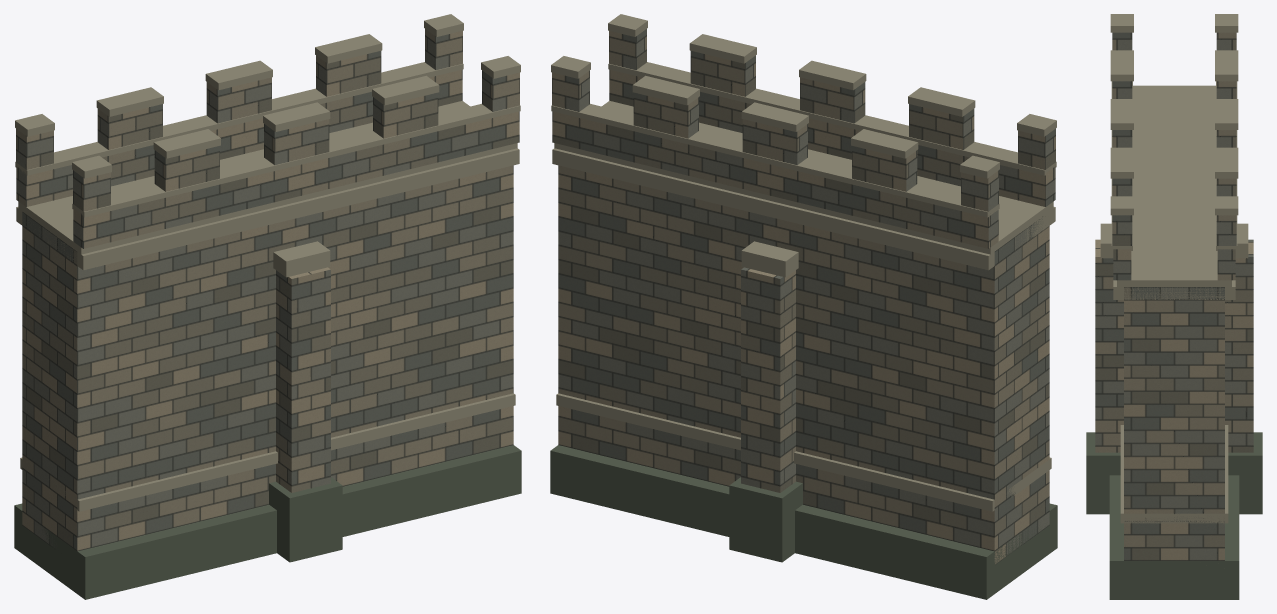
Rendered from town_wall.obj.
3 renders of one model, left to right at view 1: azimuth 30°, elevation 25°; view 2: azimuth 150°, elevation 25°; view 3: azimuth 270°, elevation 25°, orthographic. The views are drawn at different scales.
Parts seen in each view (by area): view 1: town_wall; view 2: town_wall; view 3: town_wall.
Part boxes in pixels (x1,y1,x2,y2): town_wall: (14, 14, 521, 599); town_wall: (550, 14, 1057, 599); town_wall: (1086, 14, 1262, 599).
Size of the model in its own units: 512 by 480 by 196.
3 materials, 1 textured.
